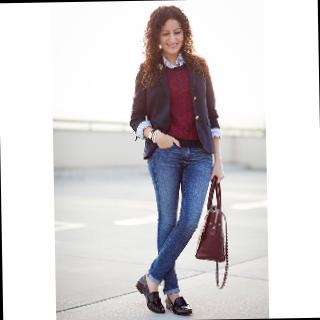loafers: (135, 273, 166, 317), (165, 289, 198, 316)
